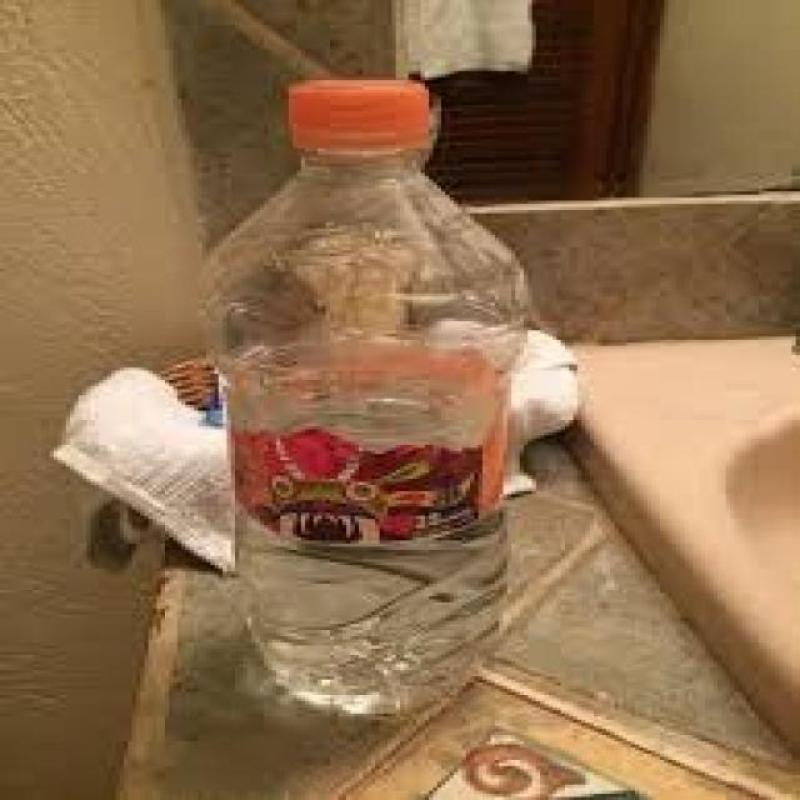botella: (194, 75, 528, 716)
